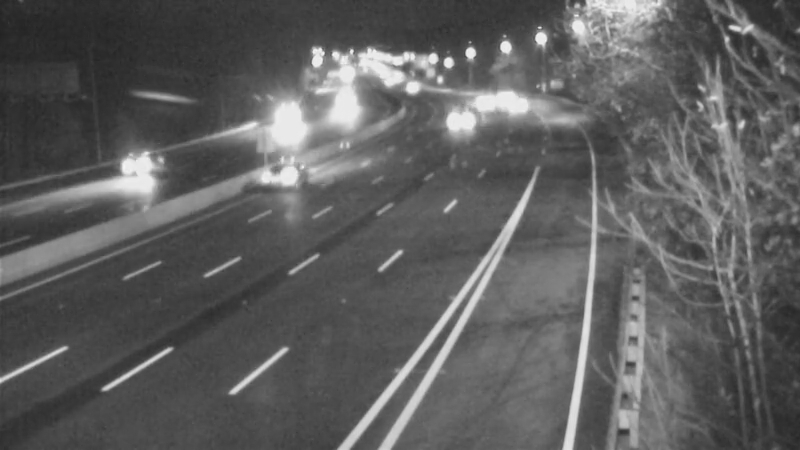vehicle: (234, 139, 314, 219), (89, 130, 169, 210), (385, 61, 435, 111), (474, 72, 524, 122), (489, 77, 539, 127), (459, 79, 509, 129), (433, 89, 483, 139), (254, 95, 304, 145), (314, 84, 364, 134)
